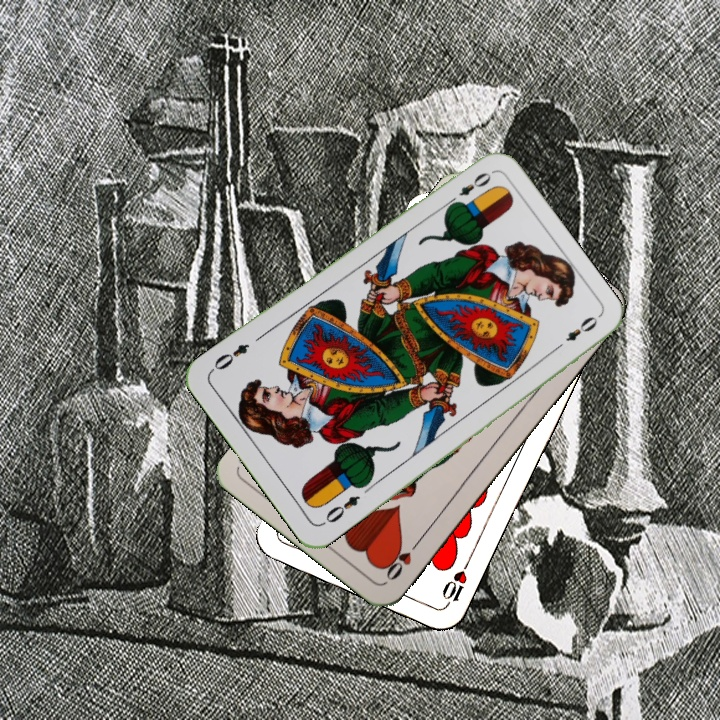EO: (443, 168, 494, 210), (318, 491, 363, 528)
H10: (438, 556, 473, 611)
HO: (380, 534, 424, 583)
